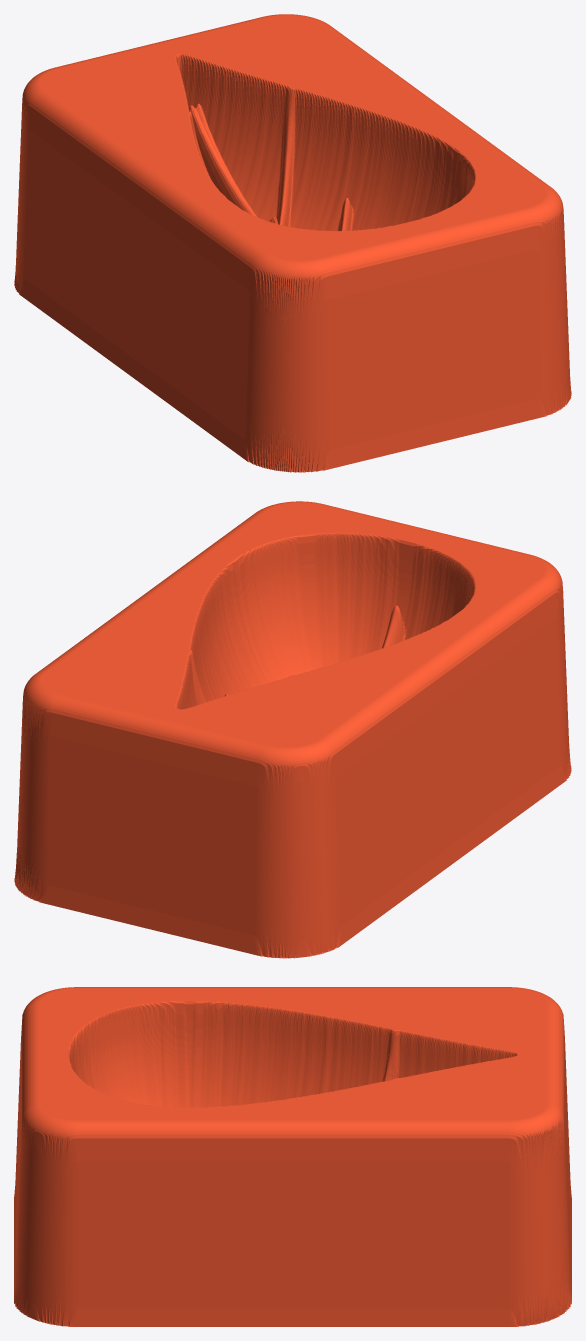
Rendered from mold.glb.
3 renders of one model, top to bottom at view 1: azimuth 30°, elevation 25°; view 2: azimuth 150°, elevation 25°; view 3: azimuth 270°, elevation 25°, orthographic. The views are drawn at different scales.
Visible parts, largest first — view 1: geometry_0; view 2: geometry_0; view 3: geometry_0.
Boxes of the visible parts, x1=… form: geometry_0: x1=14, y1=14, x2=571, y2=472; geometry_0: x1=14, y1=501, x2=571, y2=958; geometry_0: x1=14, y1=987, x2=571, y2=1326.
Size of the model in its own units: 0.0516 by 0.031 by 0.0798.
